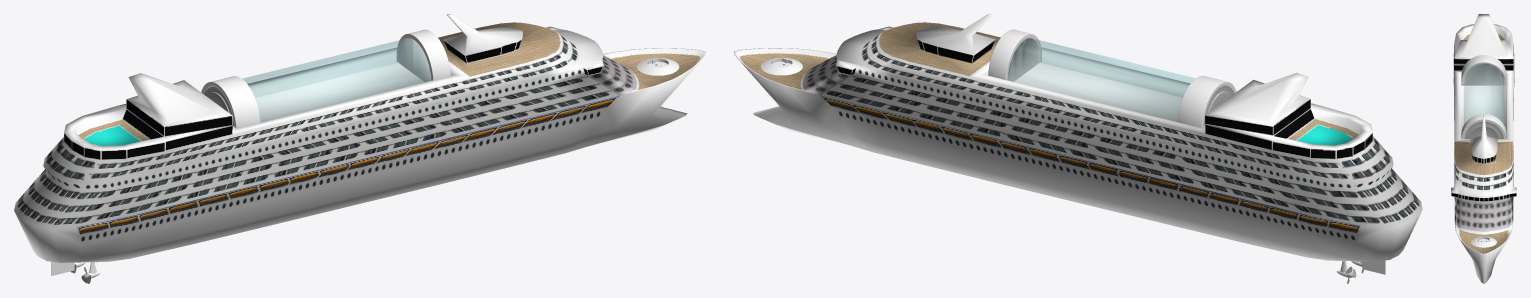
The model's file is cruiseship.glb.
3 views of the same model, side by side, from view 1: azimuth 30°, elevation 25°; view 2: azimuth 150°, elevation 25°; view 3: azimuth 270°, elevation 25° (orthographic). The views are drawn at different scales.
Visible parts, largest first — view 1: Ship, Battery, Outlet; view 2: Ship, Battery, Outlet; view 3: Ship, Battery, Outlet.
Part boxes in pixels (x1,y1,x2,y2): Ship: (14,14,705,262); Battery: (201,29,450,128); Outlet: (637,58,679,75); Ship: (734,14,1422,261); Battery: (988,29,1236,127); Outlet: (760,57,802,75); Ship: (1451,14,1516,283); Battery: (1461,55,1506,138); Outlet: (1471,236,1496,247).
Size of the model in its own units: 298 by 77.28 by 40.4.
Materials: 6 (1 with a texture image).
